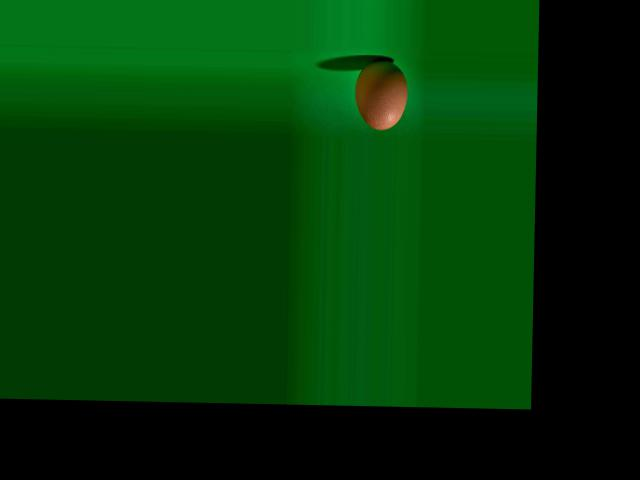egg: (354, 59, 408, 129)
